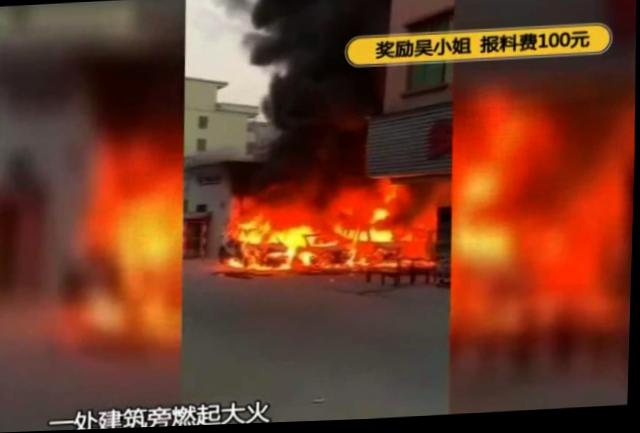fire: (219, 180, 440, 298)
